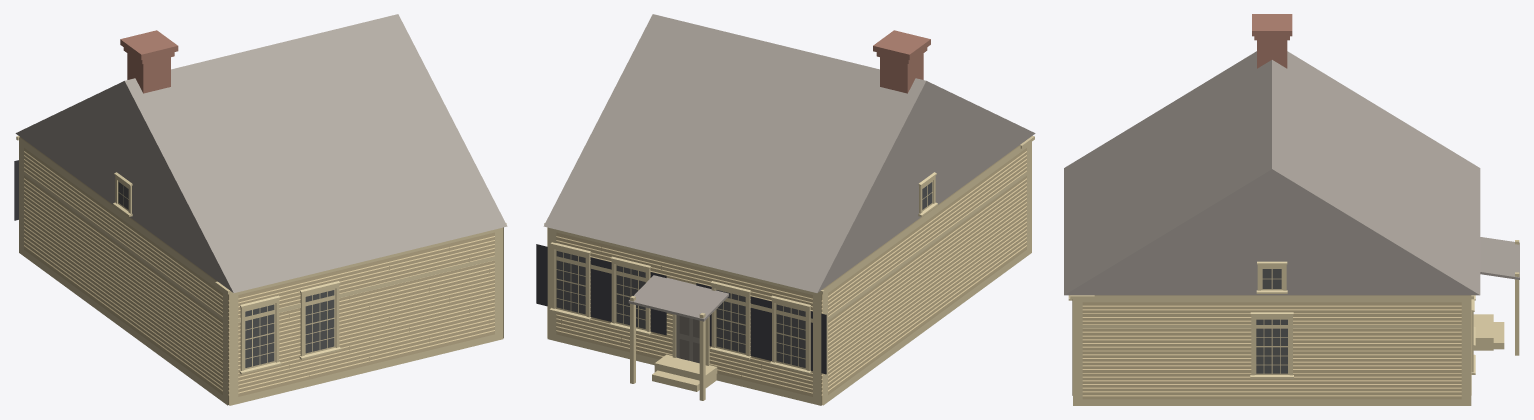
File: recon_1835_blk_washington_wells_h1_03__inferred_1835.glb
The picture shows the model from 3 angles, left to right: view 1: azimuth 30°, elevation 25°; view 2: azimuth 150°, elevation 25°; view 3: azimuth 270°, elevation 25°; orthographic projection. The views are drawn at different scales.
Visible parts, largest first — view 1: recon_1835_blk_washington_wells_h1_03__inferred_1835; view 2: recon_1835_blk_washington_wells_h1_03__inferred_1835; view 3: recon_1835_blk_washington_wells_h1_03__inferred_1835.
Part boxes in pixels (<box>): recon_1835_blk_washington_wells_h1_03__inferred_1835: <box>14,14,507,405</box>; recon_1835_blk_washington_wells_h1_03__inferred_1835: <box>536,14,1035,405</box>; recon_1835_blk_washington_wells_h1_03__inferred_1835: <box>1064,14,1519,405</box>.
Bounding box in the file's own units: 8.85 × 8.17 × 12.63.
